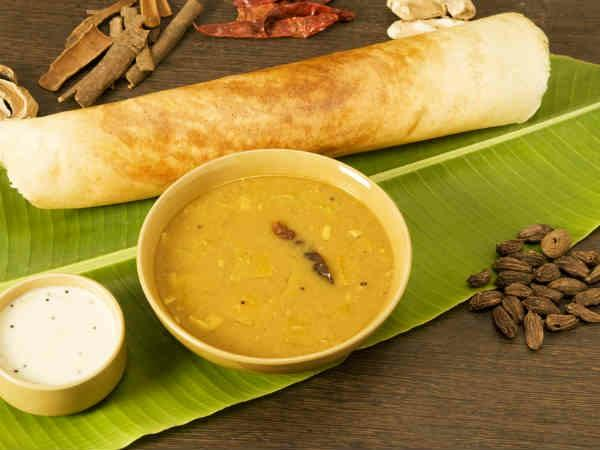CoconutChutney: (0, 285, 116, 386)
Dosa: (0, 12, 550, 208)
